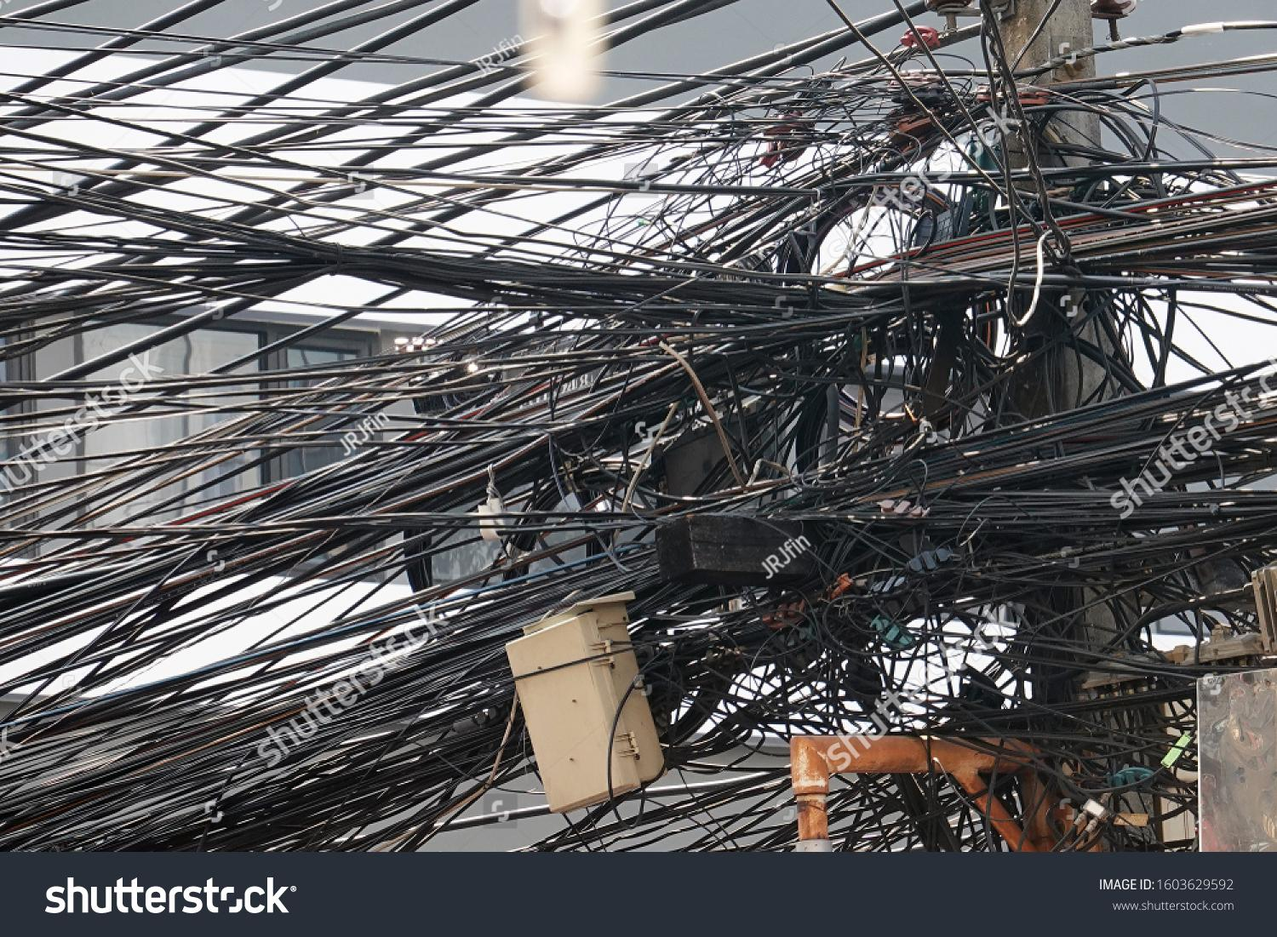wires-only: (1, 31, 1277, 840)
